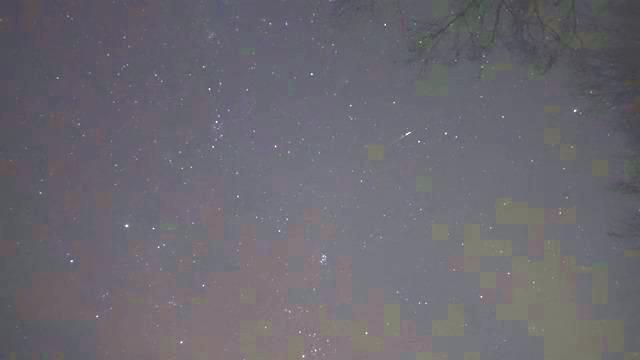meteorite: (385, 127, 422, 144)
